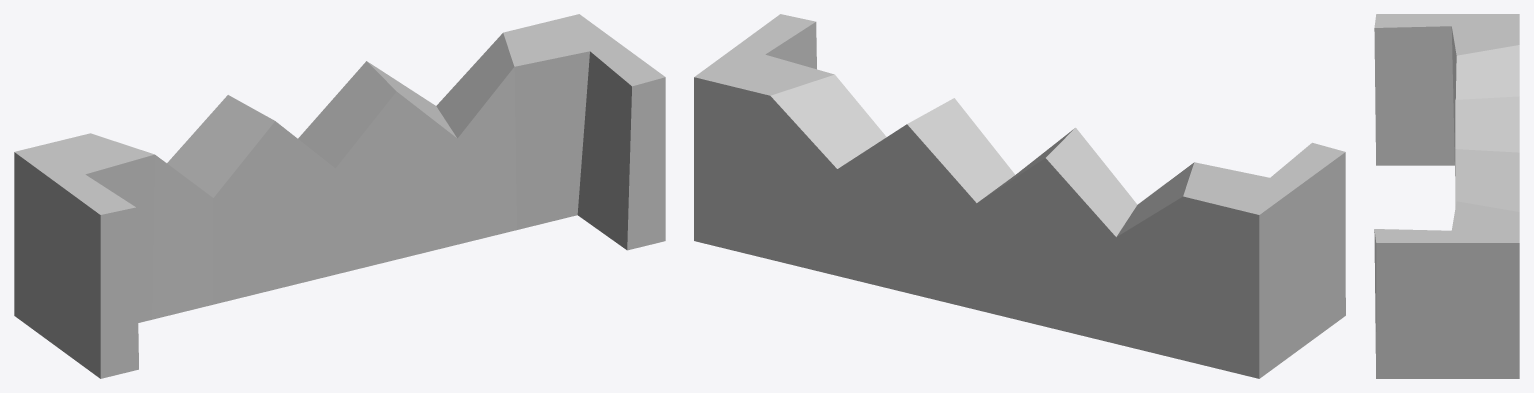
Rendered from BackBump2.fbx.
3 views of the same model, side by side, from view 1: azimuth 30°, elevation 25°; view 2: azimuth 150°, elevation 25°; view 3: azimuth 270°, elevation 25° (orthographic). The views are drawn at different scales.
Visible parts, largest first — view 1: BackBump2; view 2: BackBump2; view 3: BackBump2.
Part boxes in pixels (box(x1,y1,x2,y2)): BackBump2: box(14, 14, 665, 378); BackBump2: box(694, 14, 1345, 378); BackBump2: box(1374, 14, 1519, 378).
Size of the model in its own units: 1.81 by 0.4844 by 0.5164.
